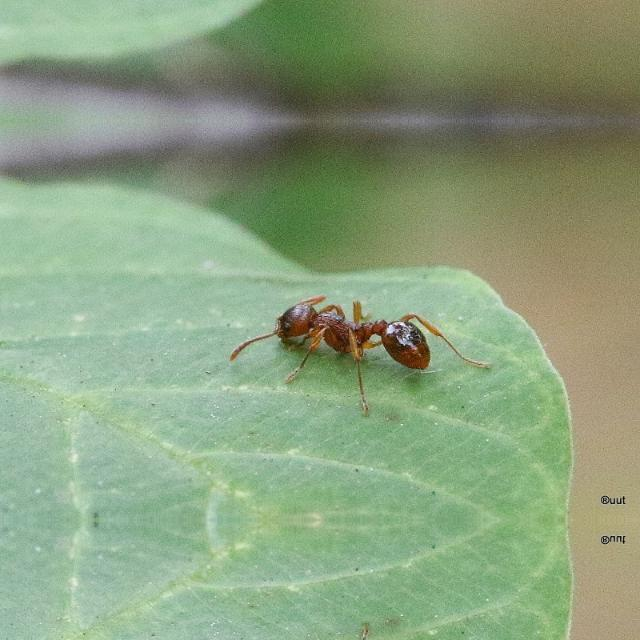Myrmica: (246, 277, 454, 395)
